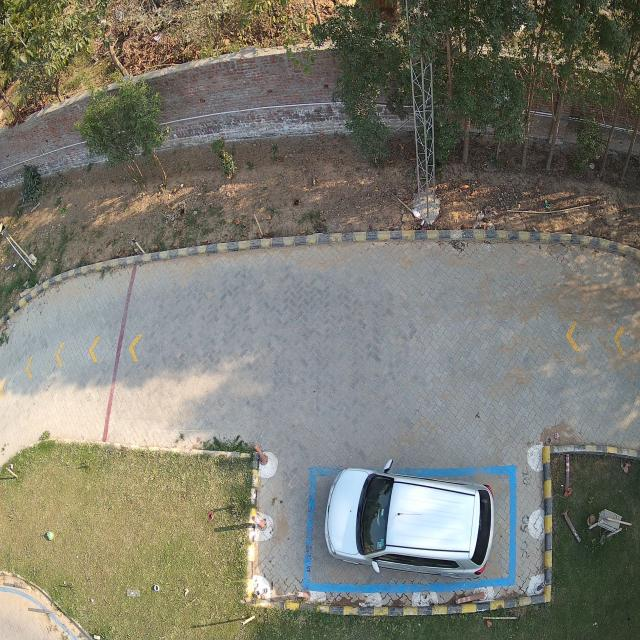car: (325, 468, 494, 578)
